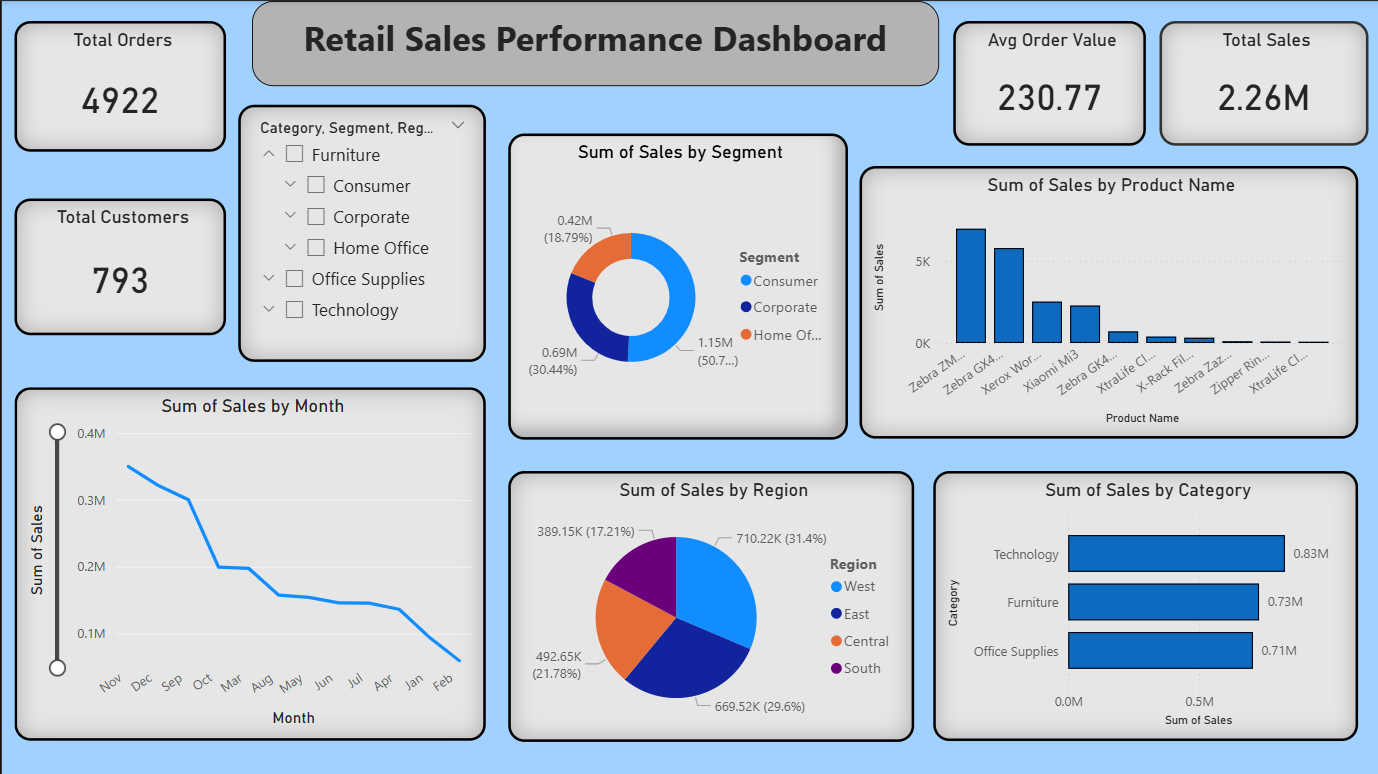

The page's visual inventory and layout, read from the dashboard file:
{"tool":"powerbi","page":{"name":"Page 1","canvas":[1280,720],"ordinal":0},"visuals":[{"type":"card","title":"Total  Sales ","fields":{"Values":["Sum(train.Sales)"]},"box":[1076.6,18.9,194.3,116],"z":0},{"type":"card","title":"Total  Orders","fields":{"Values":["train.total_orders"]},"box":[12.1,18.9,197,121.4],"z":1000},{"type":"card","title":"Total  Customers","fields":{"Values":["train.total _customer"]},"box":[12.1,183.5,197,126.8],"z":2000},{"type":"lineChart","fields":{"Category":["train.Month"],"Y":["Sum(train.Sales)"]},"box":[12.1,358.9,438.5,329.2],"z":3000},{"type":"columnChart","fields":{"Category":["train.Product Name"],"Y":["Sum(train.Sales)"]},"box":[797.3,153.8,464.1,253.6],"z":4000},{"type":"barChart","fields":{"Category":["train.Category"],"Y":["Sum(train.Sales)"]},"box":[866.1,437.1,395.3,250.9],"z":5000},{"type":"pieChart","fields":{"Category":["train.Region"],"Y":["Sum(train.Sales)"]},"box":[470.8,437.1,377.7,252.3],"z":6000},{"type":"slicer","fields":{"Values":["train.Category","train.Segment","train.Region"]},"box":[219.6,96.9,230.7,239.3],"z":7000},{"type":"textbox","box":[232,0,639.5,79.6],"z":8000},{"type":"card","title":"Avg Order Value","fields":{"Values":["train.Avg Order Value"]},"box":[885,18.9,179.4,116],"z":9000},{"type":"donutChart","fields":{"Category":["train.Segment"],"Y":["Sum(train.Sales)"]},"box":[470.8,122.8,315.7,284.7],"z":10000}]}

Visuals, with their boxes in screenshot pixels (x1, y1, x2, y2), scaled from the page's 1280x720 canvas onto the 1378x774 screenshot:
"Total  Sales " card: crop(1159, 20, 1368, 145)
"Total  Orders" card: crop(13, 20, 225, 151)
"Total  Customers" card: crop(13, 197, 225, 334)
lineChart - train.Month x Sum(train.Sales): crop(13, 386, 485, 740)
columnChart - train.Product Name x Sum(train.Sales): crop(858, 165, 1358, 438)
barChart - train.Category x Sum(train.Sales): crop(932, 470, 1358, 740)
pieChart - train.Region x Sum(train.Sales): crop(507, 470, 913, 741)
slicer - train.Category x train.Segment: crop(236, 104, 485, 361)
textbox: crop(250, 0, 938, 86)
"Avg Order Value" card: crop(953, 20, 1146, 145)
donutChart - train.Segment x Sum(train.Sales): crop(507, 132, 847, 438)
